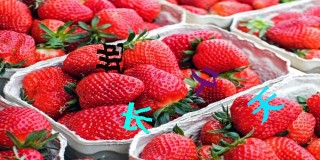久: (191, 68, 218, 95)
地: (94, 43, 124, 73)
天: (246, 86, 284, 123)
长: (120, 101, 152, 135)
